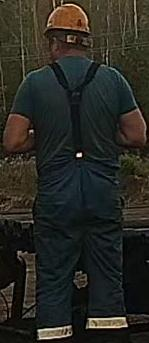helmet: (42, 3, 91, 37)
